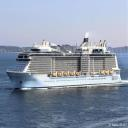cruises: (6, 37, 124, 87)
